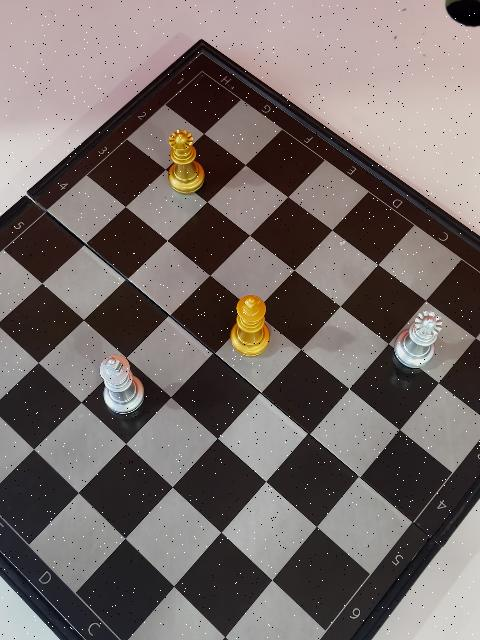black_king: (231, 296, 271, 358)
black_queen: (167, 130, 205, 196)
white_king: (99, 355, 144, 417)
white_queen: (393, 310, 444, 370)
